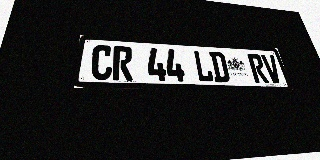4: (147, 48, 167, 81), (165, 49, 185, 82)
C: (90, 45, 113, 80)
D: (209, 51, 231, 82)
L: (193, 50, 214, 82)
R: (112, 46, 133, 81), (247, 54, 269, 83)
V: (261, 54, 283, 83)
